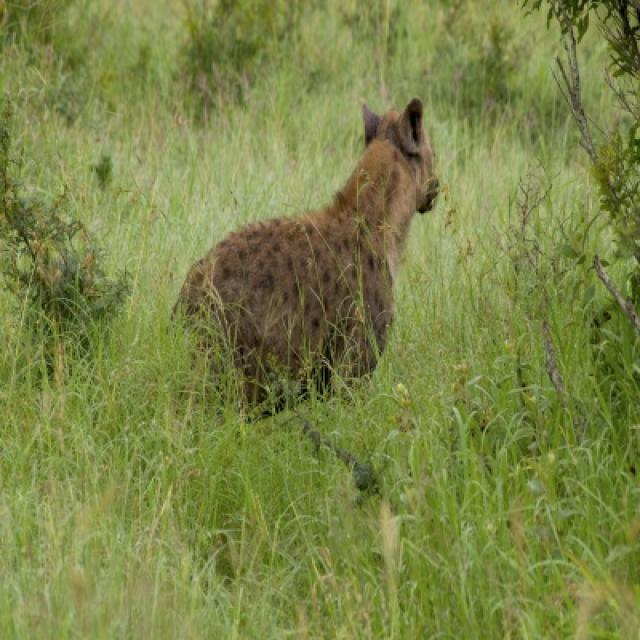hyena: (174, 99, 443, 406)
